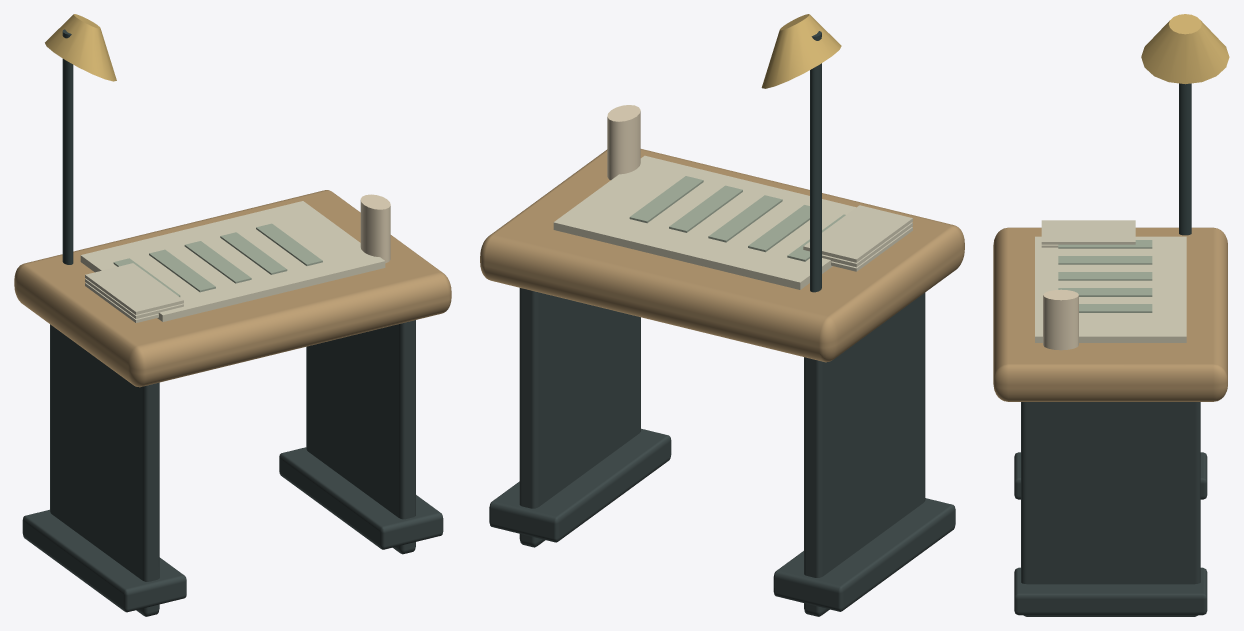
The model's file is desk.glb.
3 renders of one model, left to right at view 1: azimuth 30°, elevation 25°; view 2: azimuth 150°, elevation 25°; view 3: azimuth 270°, elevation 25°, orthographic. The views are drawn at different scales.
Size of the model in its own units: 0.99 by 1.57 by 0.684.
